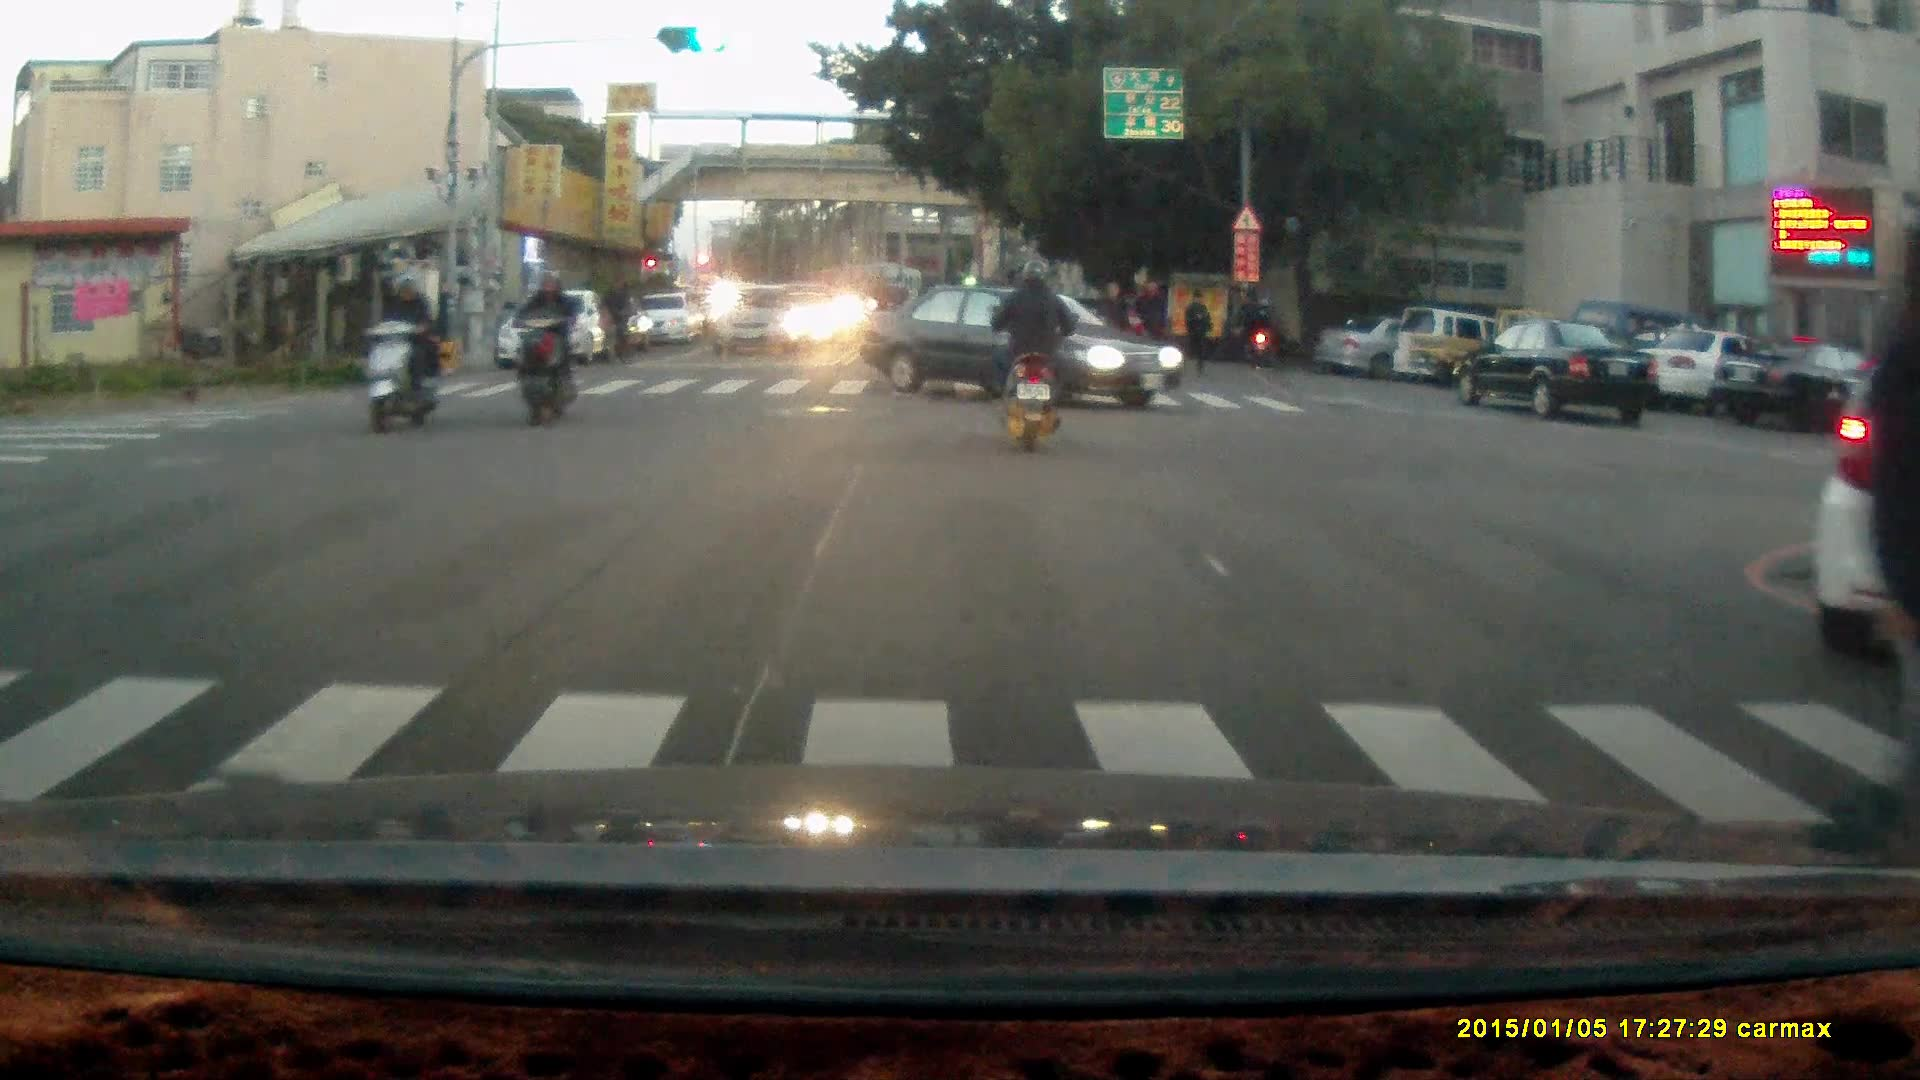pedestrian: (1180, 288, 1213, 382), (1131, 278, 1166, 367), (1096, 280, 1126, 362), (1234, 288, 1265, 365)
rider: (990, 253, 1076, 448), (363, 263, 443, 434), (503, 264, 579, 427), (594, 272, 633, 367)
vehicle: (853, 276, 1183, 411), (1459, 316, 1665, 422), (1715, 340, 1901, 439), (1624, 324, 1812, 417), (1313, 311, 1495, 370), (499, 289, 618, 368), (711, 281, 810, 360)
